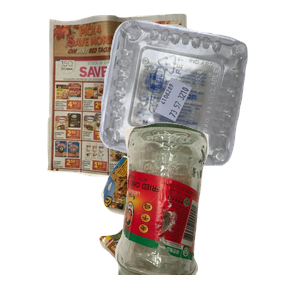glass: (112, 120, 300, 300)
paper: (44, 11, 229, 181)
plastic: (97, 17, 300, 176)
trash: (97, 151, 283, 300)
